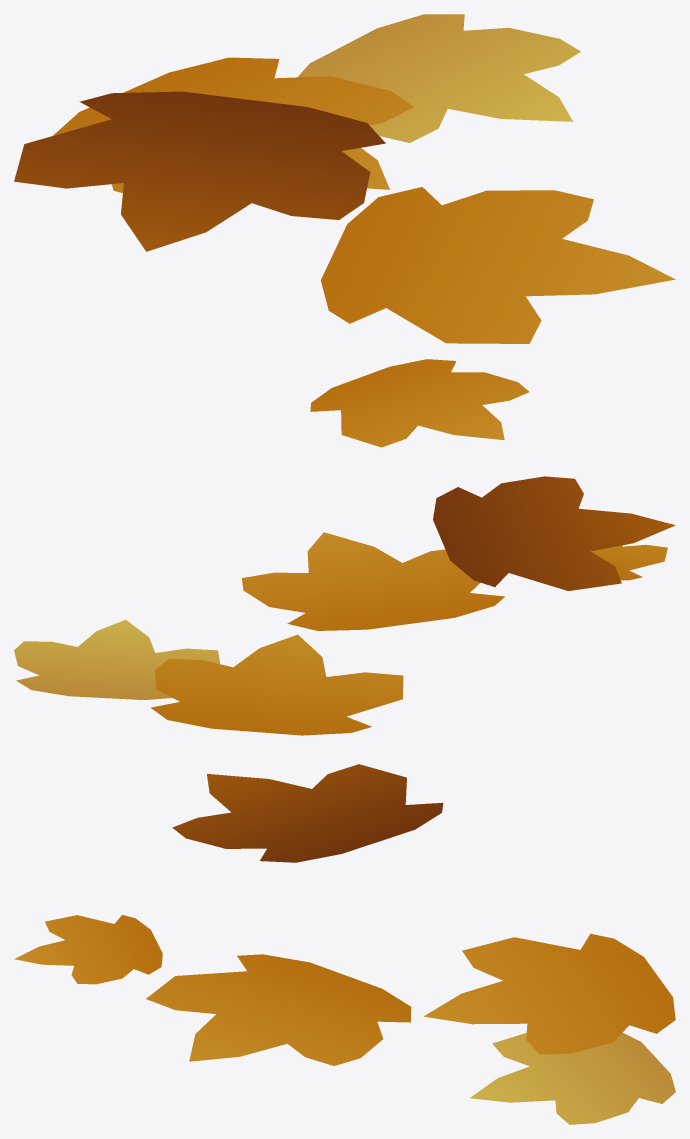
File: DryLeaves_grp3.fbx
The picture shows the model from 3 angles, top to bottom: view 1: azimuth 30°, elevation 25°; view 2: azimuth 150°, elevation 25°; view 3: azimuth 270°, elevation 25°; orthographic projection. The views are drawn at different scales.
Visible parts, largest first — view 1: PileOfLeaves5:Hoja23, PileOfLeaves5:Hoja17, PileOfLeaves5:Hoja8, PileOfLeaves5:Hoja16, PileOfLeaves5:Hoja18; view 2: PileOfLeaves5:Hoja23, PileOfLeaves5:Hoja18, PileOfLeaves5:Hoja17, PileOfLeaves5:Hoja8, PileOfLeaves5:Hoja16; view 3: PileOfLeaves5:Hoja18, PileOfLeaves5:Hoja17, PileOfLeaves5:Hoja23, PileOfLeaves5:Hoja8, PileOfLeaves5:Hoja16.
Part boxes in pixels (x1=…): PileOfLeaves5:Hoja23: x1=14, y1=91, x2=385, y2=251; PileOfLeaves5:Hoja17: x1=321, y1=187, x2=675, y2=343; PileOfLeaves5:Hoja8: x1=298, y1=14, x2=580, y2=142; PileOfLeaves5:Hoja16: x1=310, y1=359, x2=529, y2=447; PileOfLeaves5:Hoja18: x1=53, y1=57, x2=413, y2=192; PileOfLeaves5:Hoja23: x1=433, y1=476, x2=675, y2=590; PileOfLeaves5:Hoja18: x1=151, y1=634, x2=403, y2=735; PileOfLeaves5:Hoja17: x1=242, y1=532, x2=504, y2=630; PileOfLeaves5:Hoja8: x1=14, y1=619, x2=220, y2=699; PileOfLeaves5:Hoja16: x1=591, y1=544, x2=667, y2=580; PileOfLeaves5:Hoja18: x1=423, y1=933, x2=675, y2=1054; PileOfLeaves5:Hoja17: x1=146, y1=954, x2=411, y2=1065; PileOfLeaves5:Hoja23: x1=172, y1=764, x2=443, y2=862; PileOfLeaves5:Hoja8: x1=470, y1=1032, x2=675, y2=1124; PileOfLeaves5:Hoja16: x1=14, y1=915, x2=162, y2=984.
Bounding box in the file's own units: 0.9599 × 0.2138 × 1.07.
